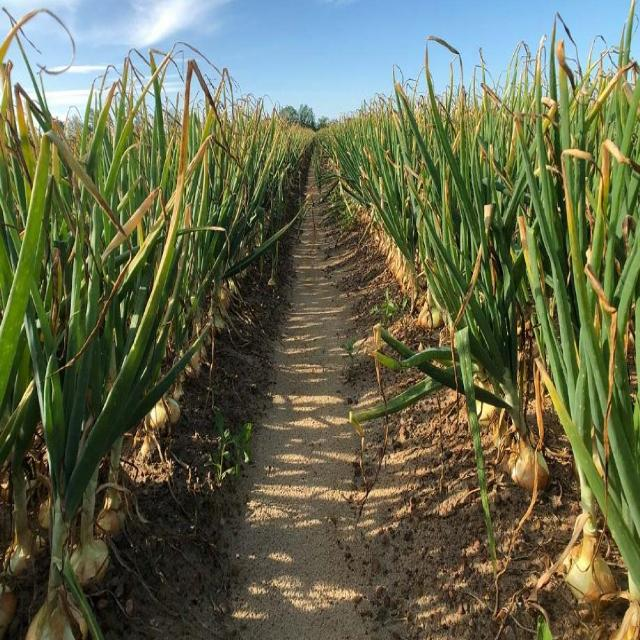row: (156, 148, 566, 640)
